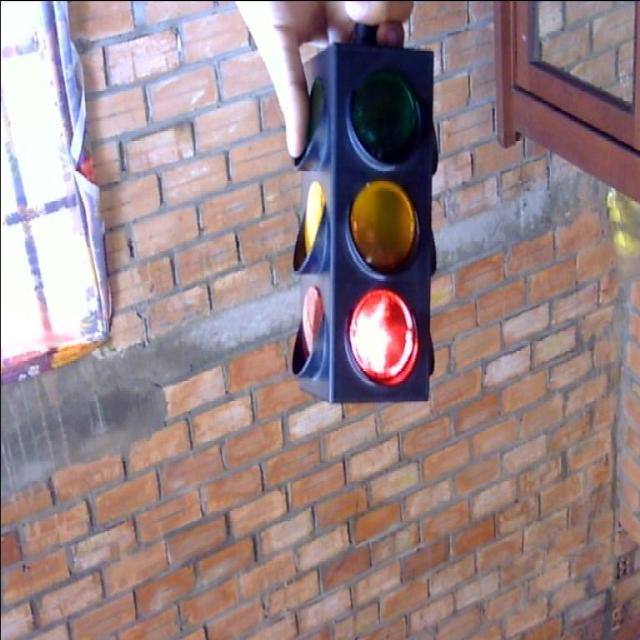red light: (338, 281, 424, 396)
